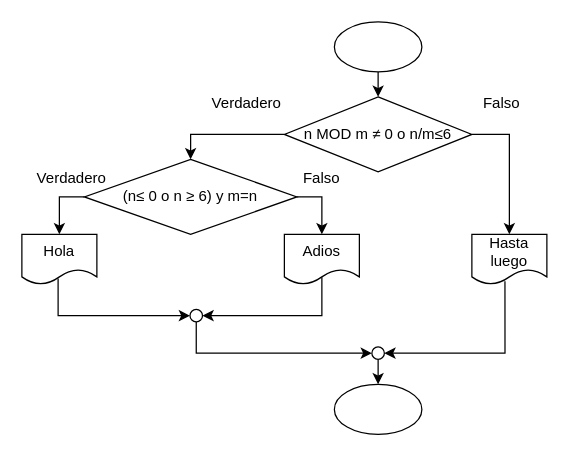
This 569x456 diagram has some shape labels left out. The box of each missing label's shape, as (x1, y1, x2, y2) in pixels:
FIN: (333, 383, 422, 434)
INICIO: (333, 21, 422, 72)
